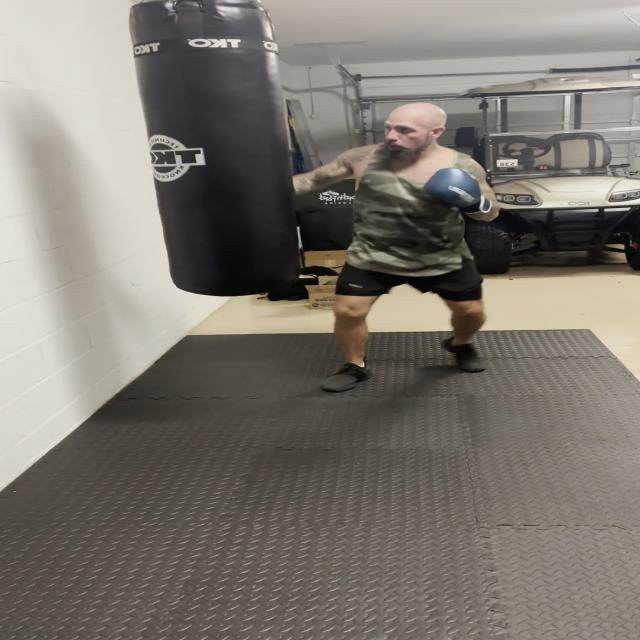bag: (143, 1, 276, 314)
hook: (274, 94, 501, 235)
